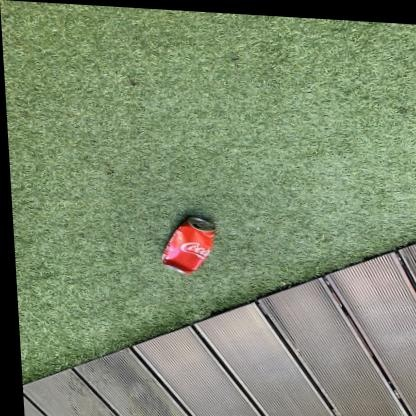trash: (162, 216, 214, 274)
